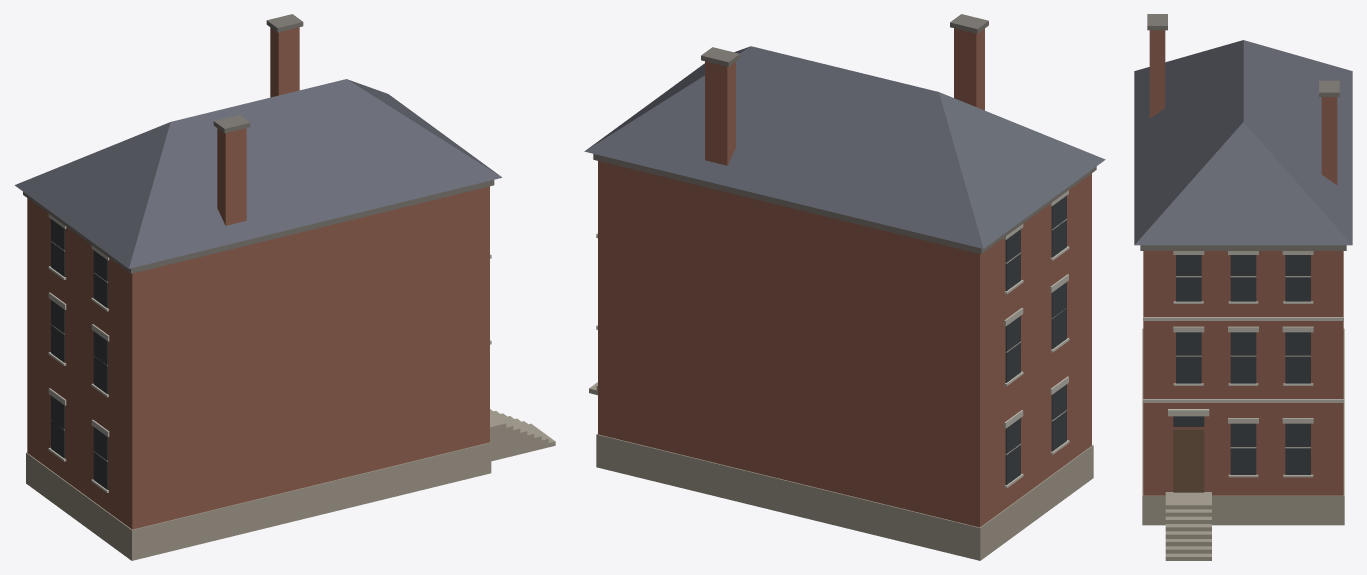
The model's file is house_1813_indiana__draft_1904.glb.
3 views of the same model, side by side, from view 1: azimuth 30°, elevation 25°; view 2: azimuth 150°, elevation 25°; view 3: azimuth 270°, elevation 25° (orthographic). The views are drawn at different scales.
Visible parts, largest first — view 1: house_1813_indiana__draft_1904; view 2: house_1813_indiana__draft_1904; view 3: house_1813_indiana__draft_1904.
Boxes of the visible parts, x1=… form: house_1813_indiana__draft_1904: x1=14, y1=14, x2=555, y2=560; house_1813_indiana__draft_1904: x1=584, y1=14, x2=1105, y2=560; house_1813_indiana__draft_1904: x1=1134, y1=14, x2=1352, y2=560.
Bounding box in the file's own units: 18.9 × 16.58 × 8.45.
